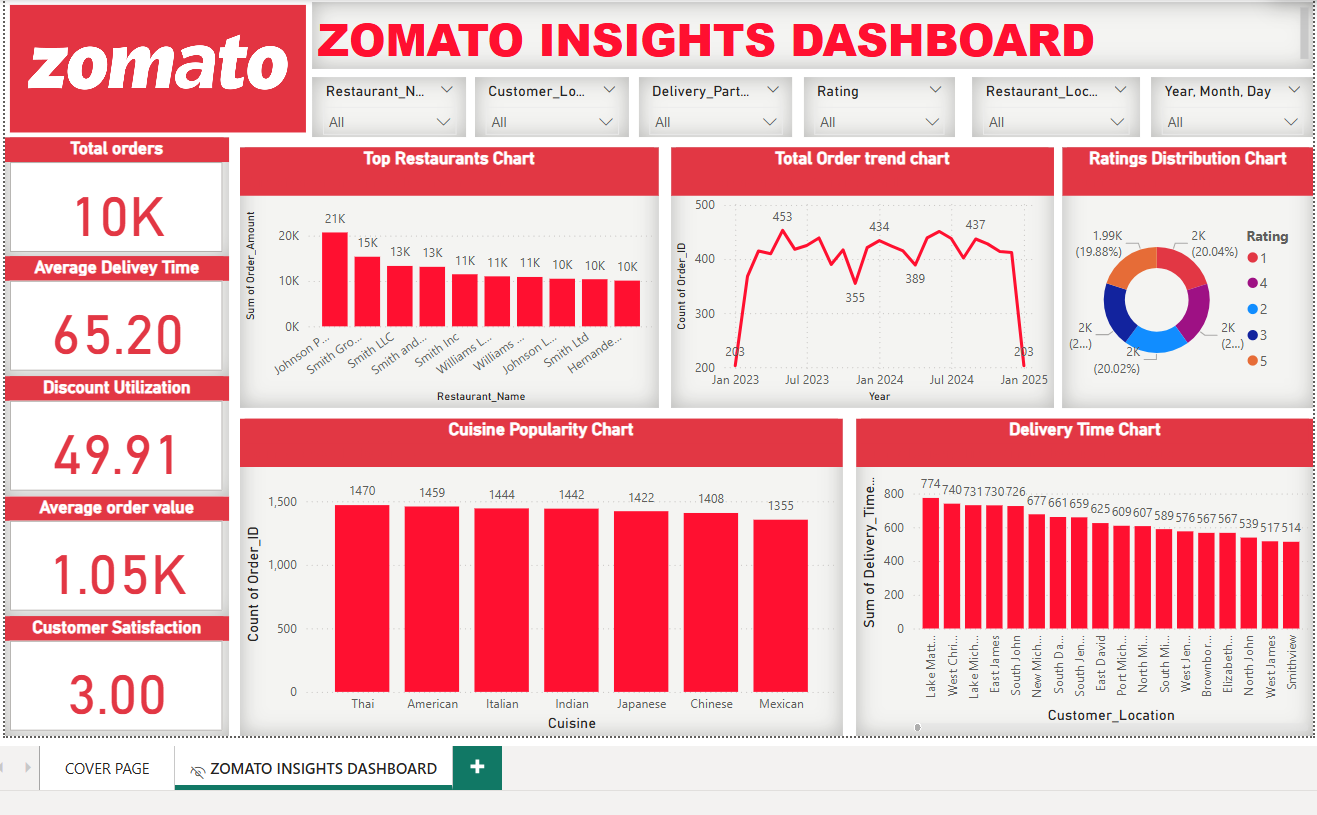

This screenshot's page, from the dashboard's own definition file:
{"tool":"powerbi","page":{"name":"ZOMATO INSIGHTS DASHBOARD","canvas":[1280,720],"ordinal":1},"visuals":[{"type":"textbox","box":[300.8,2.4,979.5,64.8],"z":0},{"type":"slicer","fields":{"Values":["Sheet1.Restaurant_Name"]},"box":[300.8,75.8,150.4,58.7],"z":0,"group":"g4"},{"type":"cardVisual","title":"Total orders","fields":{"Data":["Count(Sheet1.Order_ID)"]},"box":[0,134.5,218.9,117.4],"z":0,"group":"g3"},{"type":"image","box":[0,0,299.6,134.5],"z":1000},{"type":"slicer","fields":{"Values":["Sheet1.Customer_Location"]},"box":[459.8,75.8,150.4,58.7],"z":1000,"group":"g4"},{"type":"cardVisual","title":"Average Delivey Time","fields":{"Data":["Avg(Sheet1.Delivery_Time_Minutes)"]},"box":[0,250.7,218.9,117.4],"z":1000,"group":"g3"},{"type":"group","id":"g1","title":"Group 1","box":[300.8,75.8,979.5,58.7],"z":2000},{"type":"slicer","fields":{"Values":["Sheet1.Delivery_Partner"]},"box":[620,75.8,150.4,58.7],"z":2000,"group":"g4"},{"type":"cardVisual","title":"Average order value","fields":{"Data":["Avg(Sheet1.Order_Amount)"]},"box":[0,485.5,218.9,117.4],"z":2000,"group":"g3"},{"type":"slicer","fields":{"Values":["Sheet1.Rating"]},"box":[781.4,75.8,148,58.7],"z":3000,"group":"g4"},{"type":"group","id":"g2","title":"Group 3","box":[229.9,144.3,1050.4,576],"z":3000},{"type":"cardVisual","title":"Customer Satisfaction","fields":{"Data":["Avg(Sheet1.Rating)"]},"box":[0,602.8,218.9,117.4],"z":3000,"group":"g3"},{"type":"slicer","fields":{"Values":["Sheet1.Restaurant_Location"]},"box":[946.5,75.8,163.9,58.7],"z":4000,"group":"g4"},{"type":"group","id":"g3","title":"Group 4","box":[0,134.5,218.9,585.7],"z":4000},{"type":"cardVisual","title":"Discount Utilization","fields":{"Data":["Sheet1.discount_utilization(%)"]},"box":[0,368.1,218.9,117.4],"z":4000,"group":"g3"},{"type":"slicer","fields":{"Values":["Sheet1.Order_Date.Variation.Date Hierarchy.Year","Sheet1.Order_Date.Variation.Date Hierarchy.Month","Sheet1.Order_Date.Variation.Date Hierarchy.Day"]},"box":[1121.3,75.8,159,58.7],"z":5000,"group":"g4"},{"type":"lineChart","title":"Total Order trend chart","fields":{"Category":["Sheet1.Order_Date.Variation.Date Hierarchy.Year","Sheet1.Order_Date.Variation.Date Hierarchy.Month"],"Y":["CountNonNull(Sheet1.Order_ID)"]},"box":[651.8,144.3,374.2,254.3],"z":5000,"group":"g2"},{"type":"columnChart","title":"Delivery Time Chart","fields":{"Category":["Sheet1.Customer_Location"],"Y":["Sum(Sheet1.Delivery_Time_Minutes)"]},"box":[832.8,409.7,447.6,310.6],"z":6000,"group":"g2"},{"type":"columnChart","title":"Top Restaurants Chart","fields":{"Category":["Sheet1.Restaurant_Name"],"Y":["Sum(Sheet1.Order_Amount)"]},"box":[229.9,144.3,409.6,254.3],"z":7000,"group":"g2"},{"type":"donutChart","title":"Ratings Distribution Chart","fields":{"Y":["CountNonNull(Sheet1.Order_ID)"],"Category":["Sheet1.Rating"]},"box":[1034.5,144.3,245.8,255.6],"z":8000,"group":"g2"},{"type":"columnChart","title":"Cuisine Popularity Chart","fields":{"Y":["CountNonNull(Sheet1.Order_ID)"],"Category":["Sheet1.Cuisine"]},"box":[229.9,409.7,589.4,310.6],"z":9000,"group":"g2"},{"type":"group","id":"g4","title":"Group 2","box":[300.8,75.8,979.5,58.7],"z":12001,"group":"g1"}]}

Visuals, with their boxes on the page's 1280x720 design canvas (x1, y1, x2, y2). These are canvas units, not pixel positions in the 1317x815 screenshot, which may show the page scaled, cropped or inside an application window:
textbox: box(301, 2, 1280, 67)
slicer - Sheet1.Restaurant_Name: box(301, 76, 451, 134)
"Total orders" cardVisual: box(0, 134, 219, 252)
image: box(0, 0, 300, 134)
slicer - Sheet1.Customer_Location: box(460, 76, 610, 134)
"Average Delivey Time" cardVisual: box(0, 251, 219, 368)
"Group 1" group: box(301, 76, 1280, 134)
slicer - Sheet1.Delivery_Partner: box(620, 76, 770, 134)
"Average order value" cardVisual: box(0, 486, 219, 603)
slicer - Sheet1.Rating: box(781, 76, 929, 134)
"Group 3" group: box(230, 144, 1280, 720)
"Customer Satisfaction" cardVisual: box(0, 603, 219, 720)
slicer - Sheet1.Restaurant_Location: box(946, 76, 1110, 134)
"Group 4" group: box(0, 134, 219, 720)
"Discount Utilization" cardVisual: box(0, 368, 219, 486)
slicer - Sheet1.Order_Date.Variation.Date Hierarchy.Year x Sheet1.Order_Date.Variation.Date Hierarchy.Month: box(1121, 76, 1280, 134)
"Total Order trend chart" lineChart: box(652, 144, 1026, 399)
"Delivery Time Chart" columnChart: box(833, 410, 1280, 720)
"Top Restaurants Chart" columnChart: box(230, 144, 640, 399)
"Ratings Distribution Chart" donutChart: box(1034, 144, 1280, 400)
"Cuisine Popularity Chart" columnChart: box(230, 410, 819, 720)
"Group 2" group: box(301, 76, 1280, 134)
